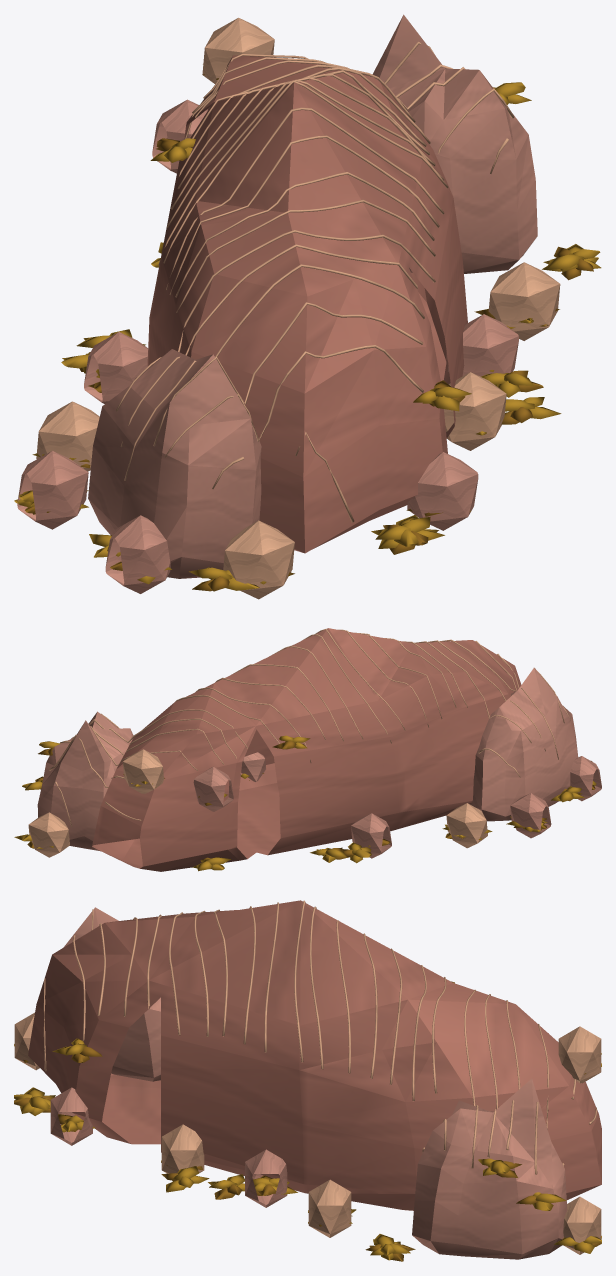
Rendered from PilotRidgeNE_1.fbx.
3 views of the same model, one above another, from view 1: azimuth 30°, elevation 25°; view 2: azimuth 150°, elevation 25°; view 3: azimuth 270°, elevation 25° (orthographic). The views are drawn at different scales.
Visible parts, largest first — view 1: PilotRidgeNE_1__Geometry; view 2: PilotRidgeNE_1__Geometry; view 3: PilotRidgeNE_1__Geometry.
Part boxes in pixels (<box>): PilotRidgeNE_1__Geometry: <box>14,14,601,599</box>; PilotRidgeNE_1__Geometry: <box>14,628,601,871</box>; PilotRidgeNE_1__Geometry: <box>14,900,601,1261</box>.
Size of the model in its own units: 4 by 1.86 by 4.
